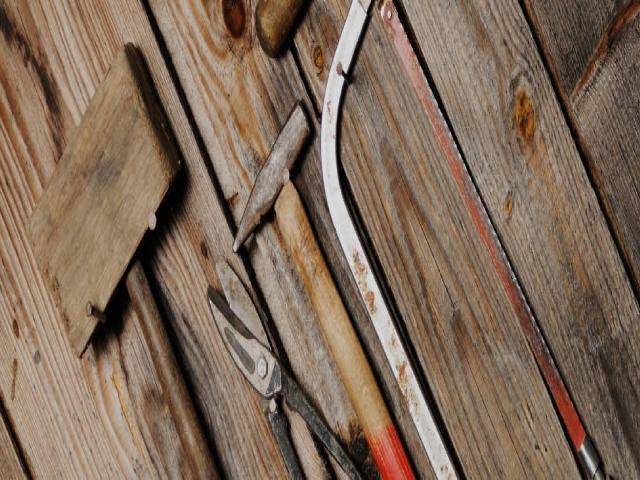Backsaw: (321, 0, 610, 480)
Hammer: (234, 105, 414, 479)
